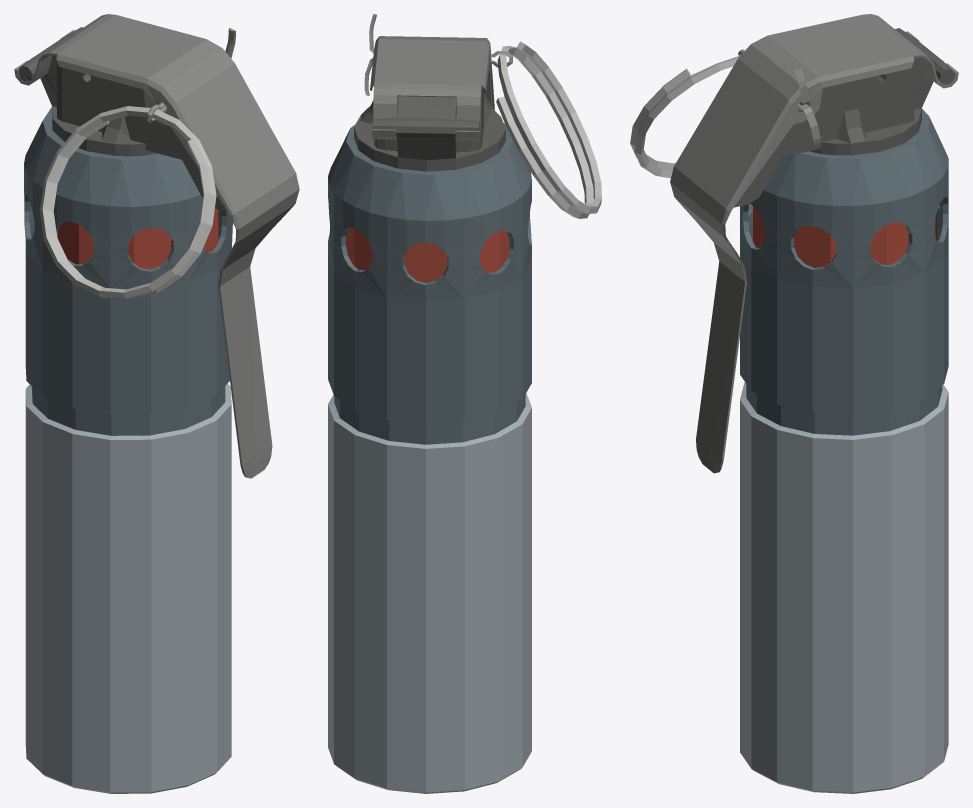
Rendered from SM_Bomb_011.fbx.
3 views of the same model, side by side, from view 1: azimuth 30°, elevation 25°; view 2: azimuth 150°, elevation 25°; view 3: azimuth 270°, elevation 25° (orthographic). The views are drawn at different scales.
Parts seen in each view (by area): view 1: SM_Bomb_011; view 2: SM_Bomb_011; view 3: SM_Bomb_011.
Boxes of the visible parts, box(x1,y1,x2,y2) form: SM_Bomb_011: box(14, 14, 299, 793); SM_Bomb_011: box(328, 14, 601, 793); SM_Bomb_011: box(630, 14, 958, 793).
Size of the model in its own units: 1.46 by 4.41 by 1.82.
Materials: 1 (1 with a texture image).
